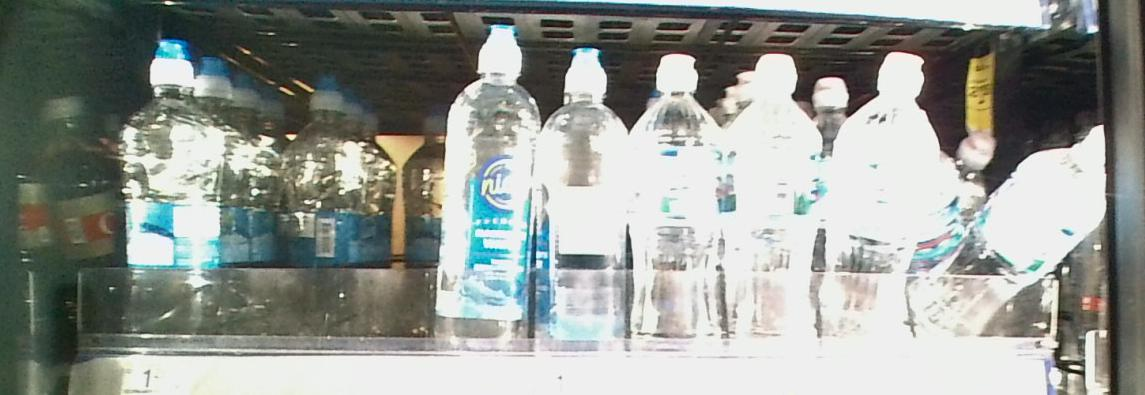bottle: (832, 43, 935, 376), (118, 35, 224, 348), (437, 25, 530, 352), (536, 42, 631, 354), (635, 40, 726, 353), (730, 46, 821, 354), (288, 68, 371, 341)
